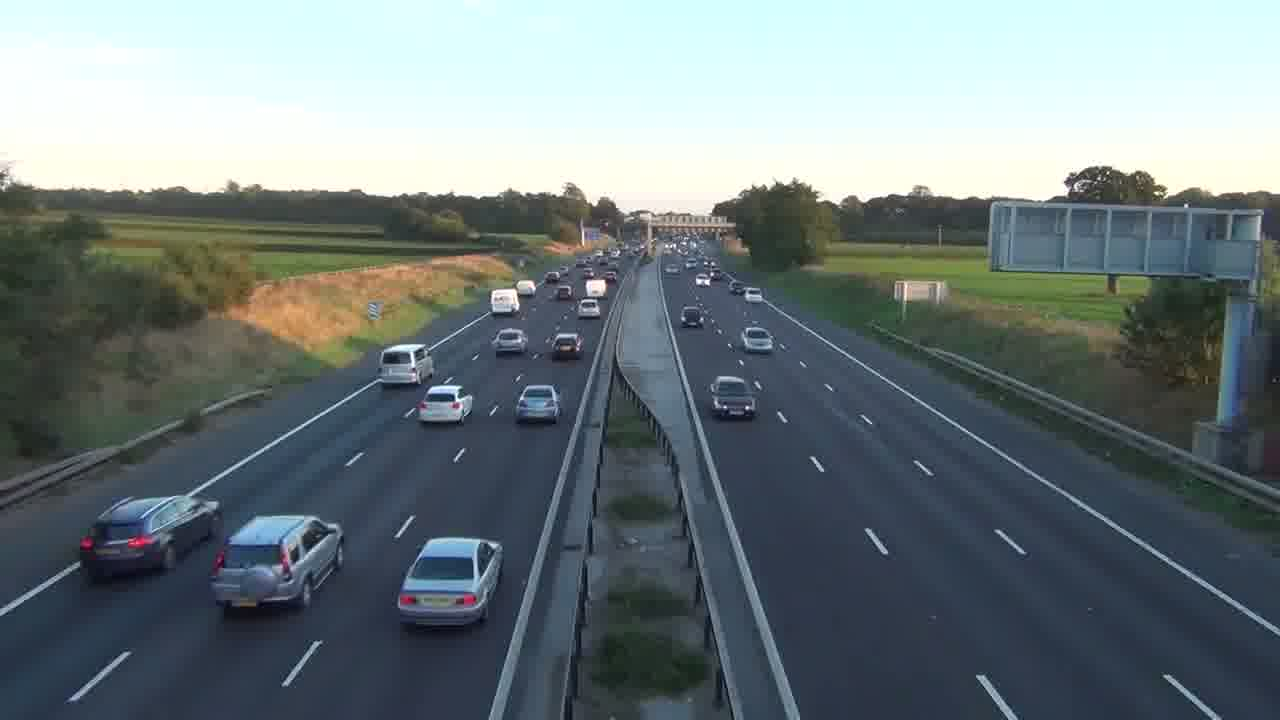car: (208, 513, 345, 612), (78, 493, 223, 583), (396, 536, 504, 629), (708, 375, 758, 421), (419, 383, 474, 424), (515, 384, 562, 424), (493, 327, 528, 357), (551, 331, 583, 361), (741, 326, 773, 353), (680, 304, 705, 328)
truck: (377, 343, 435, 386), (490, 288, 520, 316)
